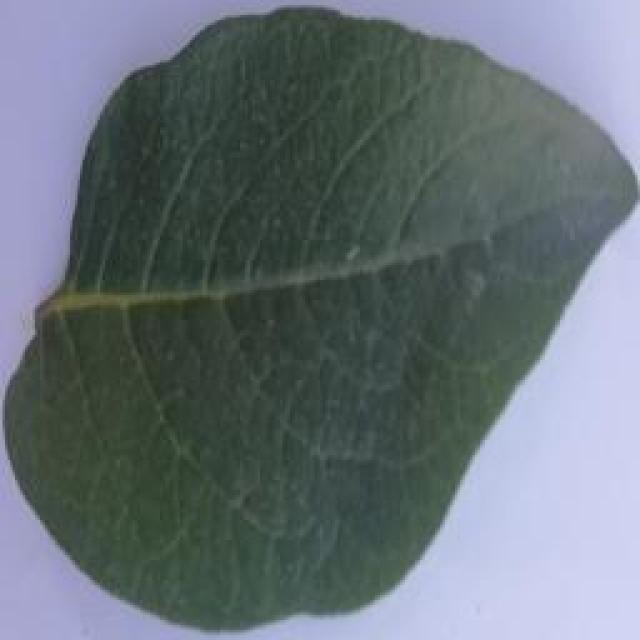Potato_Healthy: (9, 7, 628, 633)
